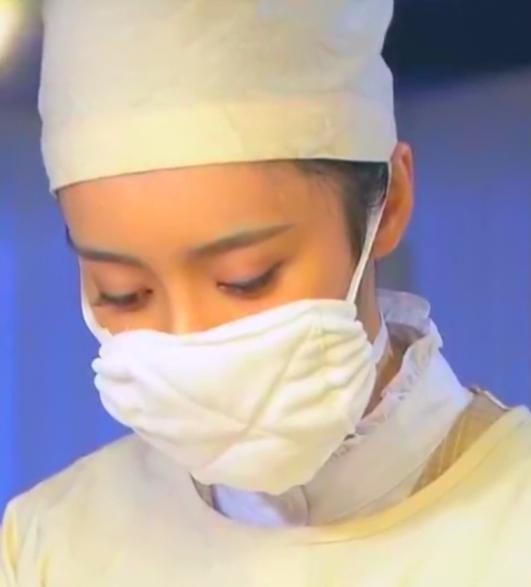OK: (73, 201, 381, 495)
